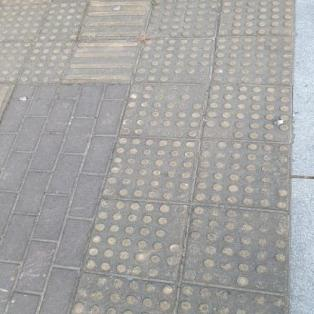Podoctatil: (67, 84, 296, 313), (0, 0, 300, 89)
